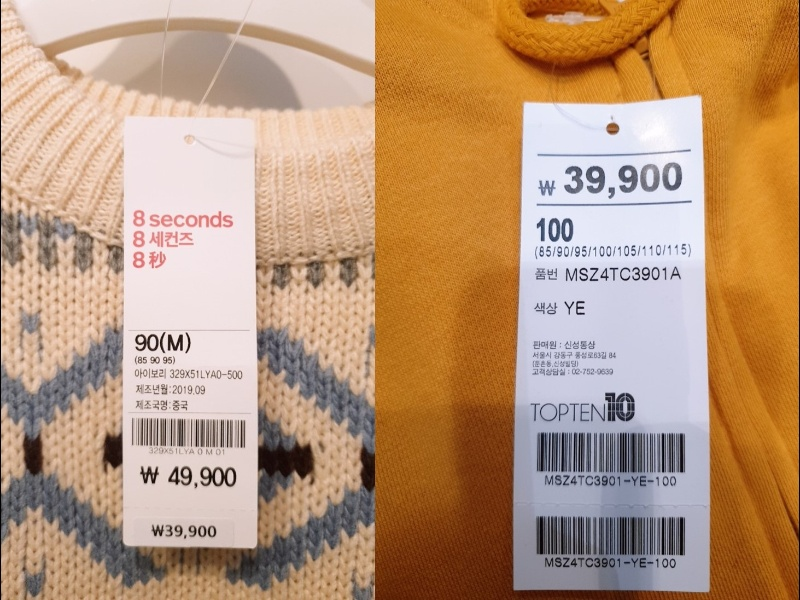tag: (514, 95, 712, 593), (124, 114, 259, 547)
text: (535, 165, 683, 195), (529, 339, 619, 378), (529, 393, 635, 425), (533, 240, 692, 259), (137, 463, 238, 489), (534, 267, 684, 284), (543, 473, 679, 490), (542, 555, 679, 571), (132, 210, 233, 229), (135, 366, 243, 382), (131, 229, 194, 249), (134, 333, 190, 355), (537, 212, 575, 242), (148, 523, 218, 539), (533, 299, 588, 318), (147, 444, 226, 457), (135, 384, 208, 397), (136, 398, 190, 412), (133, 250, 168, 269), (133, 355, 176, 365)
